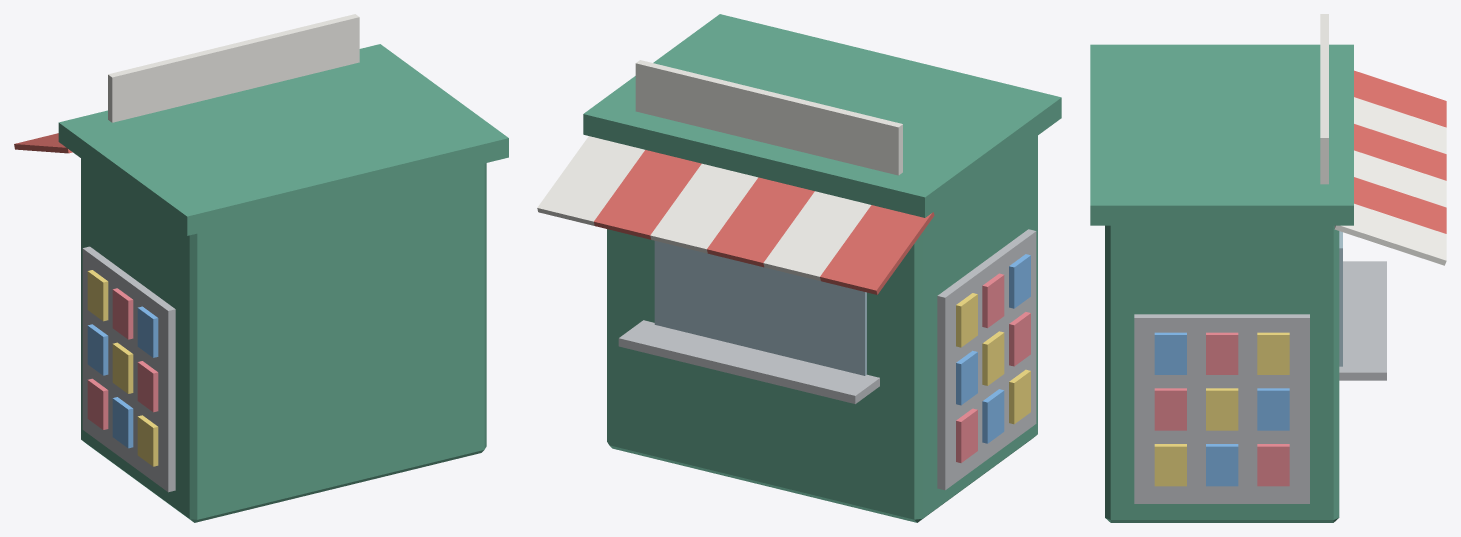
File: newsstand.glb
3 renders of one model, left to right at view 1: azimuth 30°, elevation 25°; view 2: azimuth 150°, elevation 25°; view 3: azimuth 270°, elevation 25°, orthographic. The views are drawn at different scales.
Visible parts, largest first — view 1: body; view 2: body; view 3: body.
Boxes of the visible parts, <box> form: body: <box>14,14,508,522</box>; body: <box>537,14,1061,522</box>; body: <box>1090,14,1446,522</box>.
Size of the model in its own units: 2.64 by 2.83 by 2.43.
